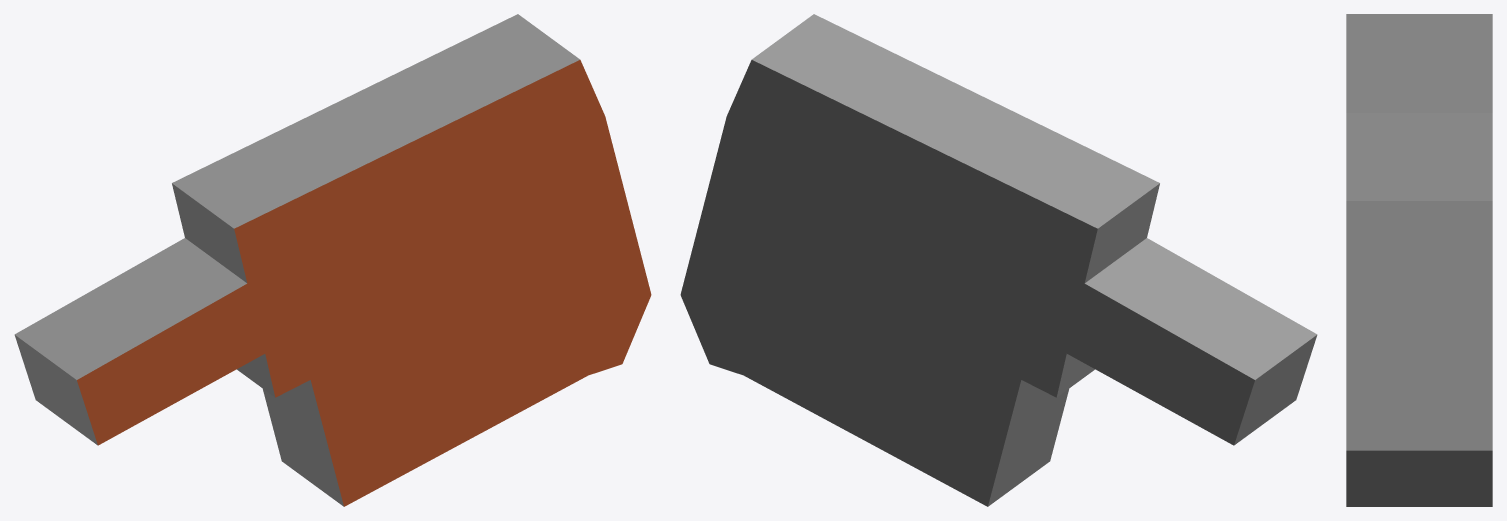
Rendered from construction_1685_assumed_A_Casa_h6m.obj.
3 views of the same model, side by side, from view 1: azimuth 30°, elevation 25°; view 2: azimuth 150°, elevation 25°; view 3: azimuth 270°, elevation 25° (orthographic). The views are drawn at different scales.
Parts seen in each view (by area): view 1: construction_1685_assumed_A_Casa; view 2: construction_1685_assumed_A_Casa; view 3: construction_1685_assumed_A_Casa.
Boxes of the visible parts, box(x1,y1,x2,y2) form: construction_1685_assumed_A_Casa: box(14, 14, 651, 506); construction_1685_assumed_A_Casa: box(680, 14, 1317, 506); construction_1685_assumed_A_Casa: box(1346, 14, 1492, 506).
Bounding box in the file's own units: 31.92 × 20.69 × 6.
